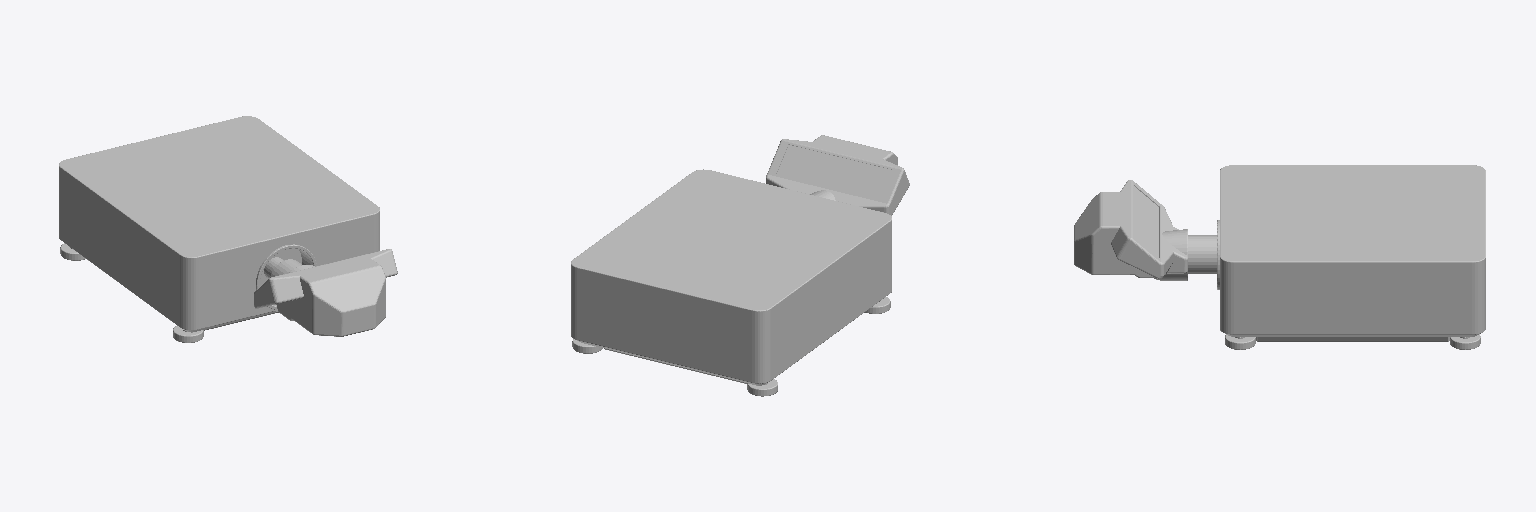
File: 04_Large Venue_H7T_UST.obj
3 renders of one model, left to right at view 1: azimuth 30°, elevation 25°; view 2: azimuth 150°, elevation 25°; view 3: azimuth 270°, elevation 25°, orthographic.
Parts seen in each view (by area): view 1: 1, 2; view 2: 1, 2; view 3: 1, 2.
Part boxes in pixels (x1,y1,x2,y2): 1: (59, 116, 379, 342); 2: (254, 249, 397, 336); 1: (571, 169, 891, 396); 2: (766, 135, 909, 215); 1: (1217, 165, 1485, 349); 2: (1074, 180, 1216, 280).
Bounding box in the file's own units: 507 × 227 × 898.